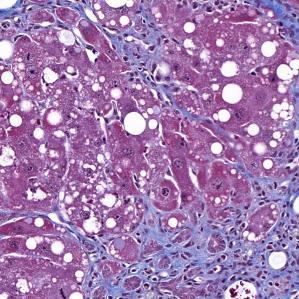fibrosis: (142, 200, 289, 290), (114, 30, 186, 86), (4, 0, 59, 31), (263, 0, 299, 40)
